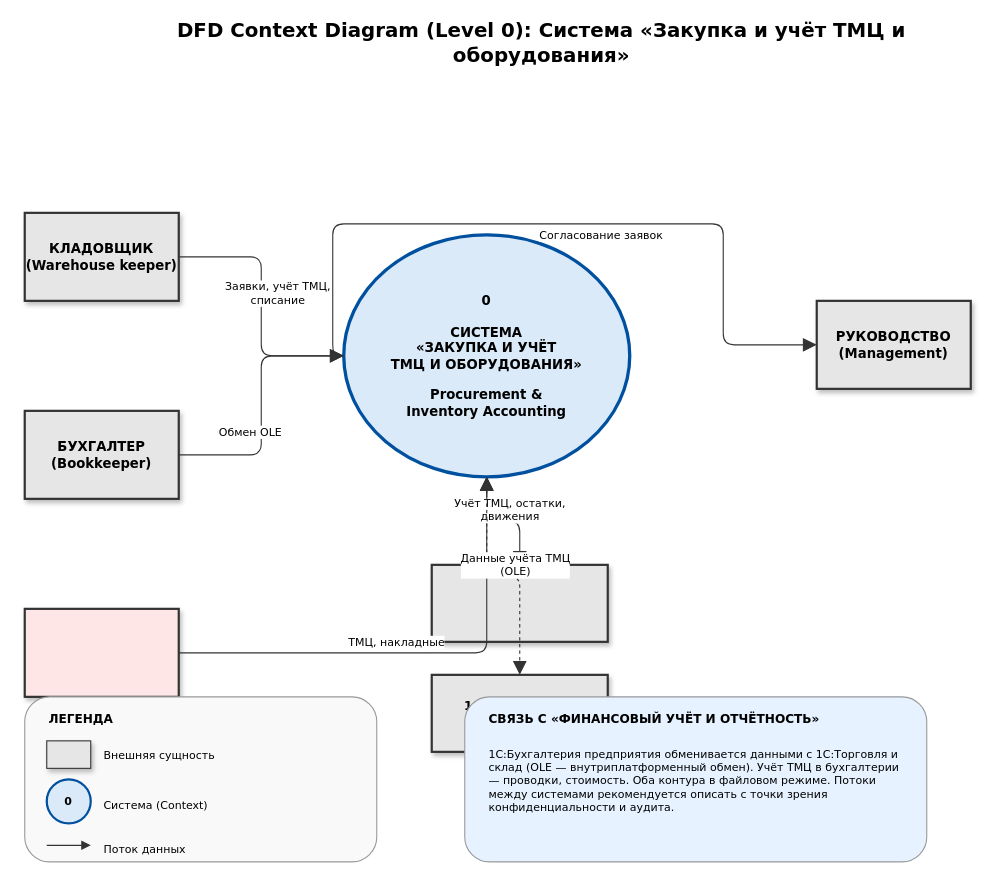
Image size: 997x881. Some labels were removed from this diagram. The shapes that lost their labels are listed below. From the top down, each one's centre as x and y in pixels, then its label:
the point at 520,604: 1С:Торговля и склад (Trade & Warehouse)
the point at 102,654: ПОСТАВЩИК (Supplier)
the point at 69,755: E#
